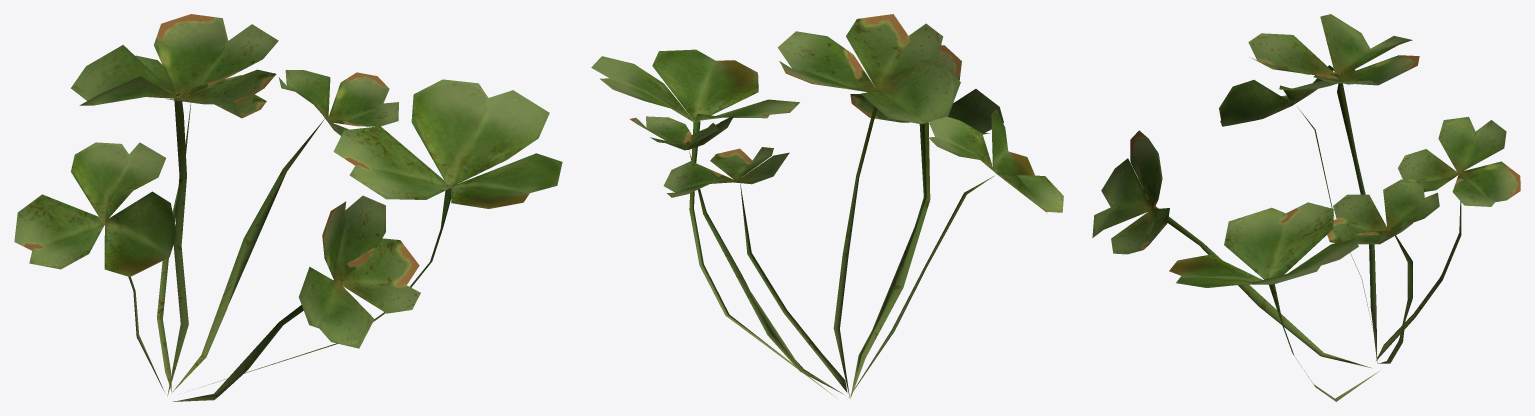
The model's file is flower_red.glb.
The picture shows the model from 3 angles, left to right: view 1: azimuth 30°, elevation 25°; view 2: azimuth 150°, elevation 25°; view 3: azimuth 270°, elevation 25°; orthographic projection. The views are drawn at different scales.
Parts seen in each view (by area): view 1: shrub_sorrel_01_b; view 2: shrub_sorrel_01_b; view 3: shrub_sorrel_01_b.
Boxes of the visible parts, x1,y1,x2,y2 form: shrub_sorrel_01_b: (14,14,562,401); shrub_sorrel_01_b: (591,14,1063,398); shrub_sorrel_01_b: (1092,14,1520,401).
Size of the model in its own units: 0.5134 by 0.3499 by 0.4175.
1 material, 1 textured.
